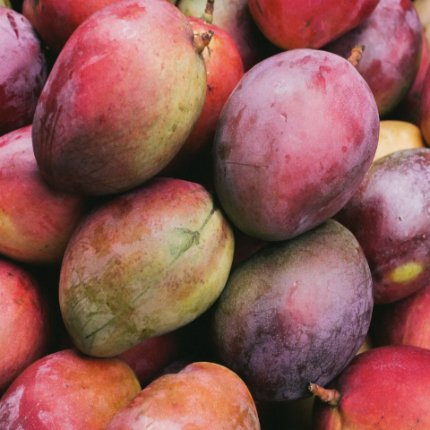mango: (10, 0, 226, 204), (211, 23, 385, 243), (36, 176, 255, 349), (204, 215, 383, 406)
